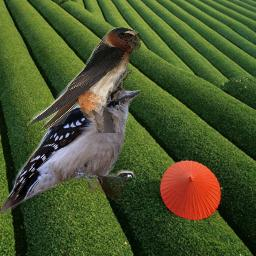Swallow: (27, 27, 141, 133)
Woodpecker: (1, 79, 141, 215)
